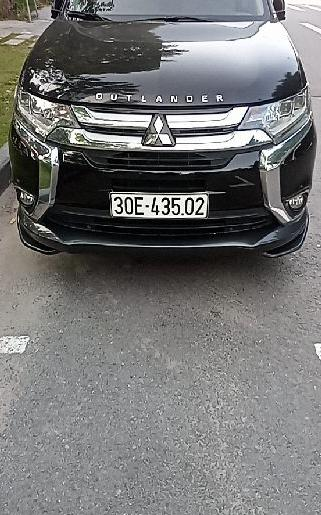Plate-iWeP: (110, 192, 209, 219)
